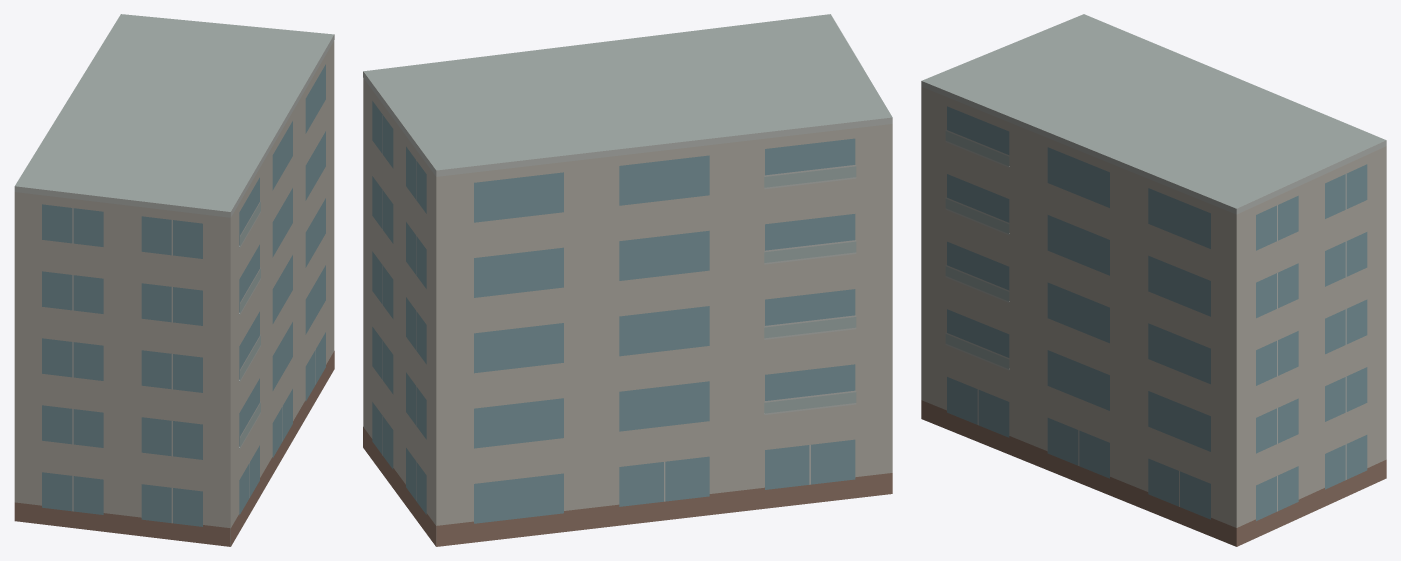
File: survey-upis-32769684.glb
3 renders of one model, left to right at view 1: azimuth 30°, elevation 25°; view 2: azimuth 150°, elevation 25°; view 3: azimuth 270°, elevation 25°, orthographic. The views are drawn at different scales.
Visible parts, largest first — view 1: survey-upis-32769684.tmp; view 2: survey-upis-32769684.tmp; view 3: survey-upis-32769684.tmp.
Boxes of the visible parts, x1=… form: survey-upis-32769684.tmp: x1=14, y1=14, x2=334, y2=546; survey-upis-32769684.tmp: x1=363, y1=14, x2=892, y2=546; survey-upis-32769684.tmp: x1=921, y1=14, x2=1386, y2=546.
Bounding box in the file's own units: 17.68 × 14.3 × 17.84.
